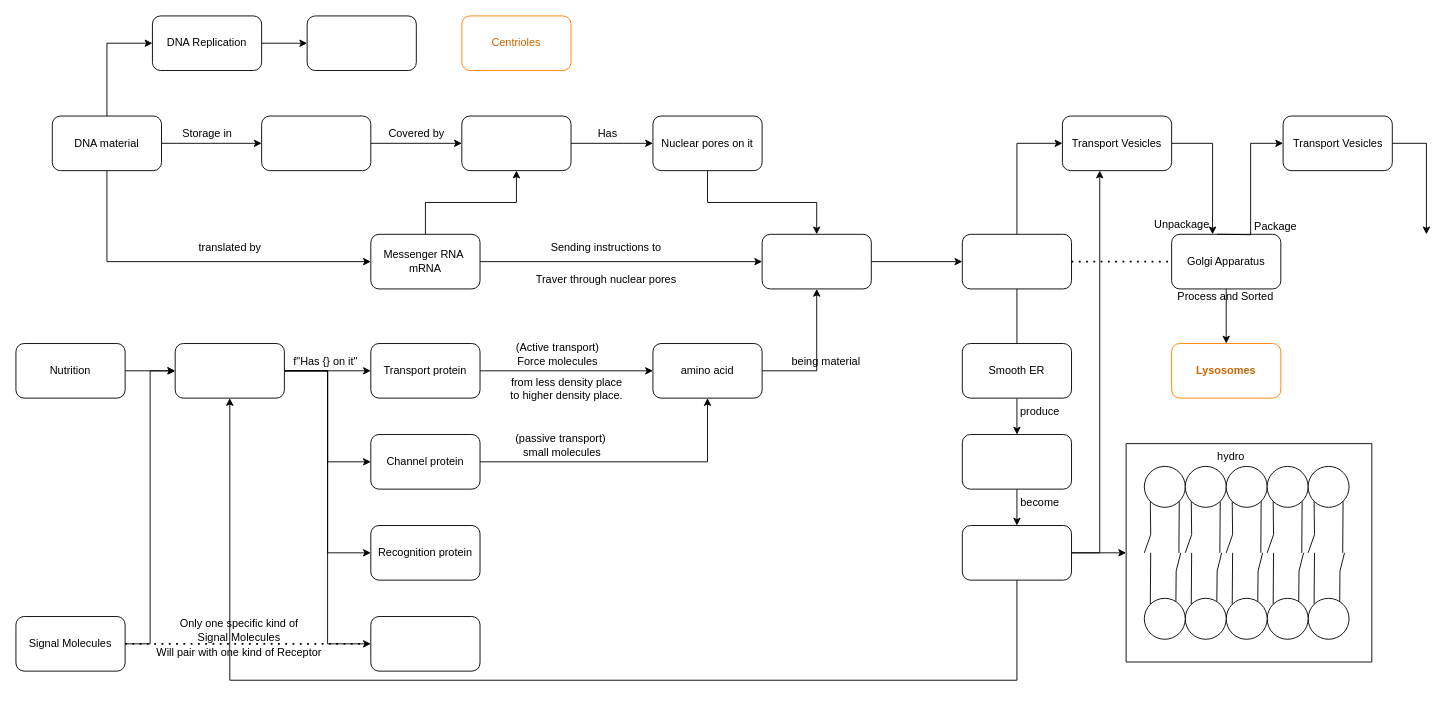
This 1450x703 diagram has some shape labels left out. Here are the shapes that lost their labels. From the top down, the centre of each, then its label:
the point at 316,143: Nuclear
the point at 516,143: Nuclear envenlope
the point at 816,261: Ribosome
the point at 1016,261: Rough ER
the point at 229,370: Cell Membrane
the point at 1016,461: Phospholipids
the point at 1016,552: Phospholipids Bilayers (Membrane)
the point at 425,643: Receptor protein
